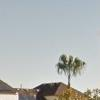Tree: (51, 49, 95, 81)
